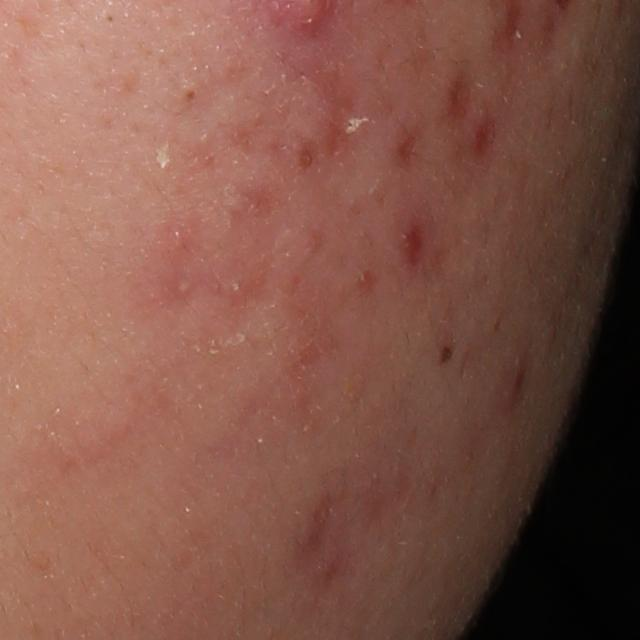comedo: (178, 82, 203, 105), (296, 144, 317, 171)
nevus: (439, 345, 456, 365)
papule: (495, 355, 532, 417), (467, 122, 488, 157)
